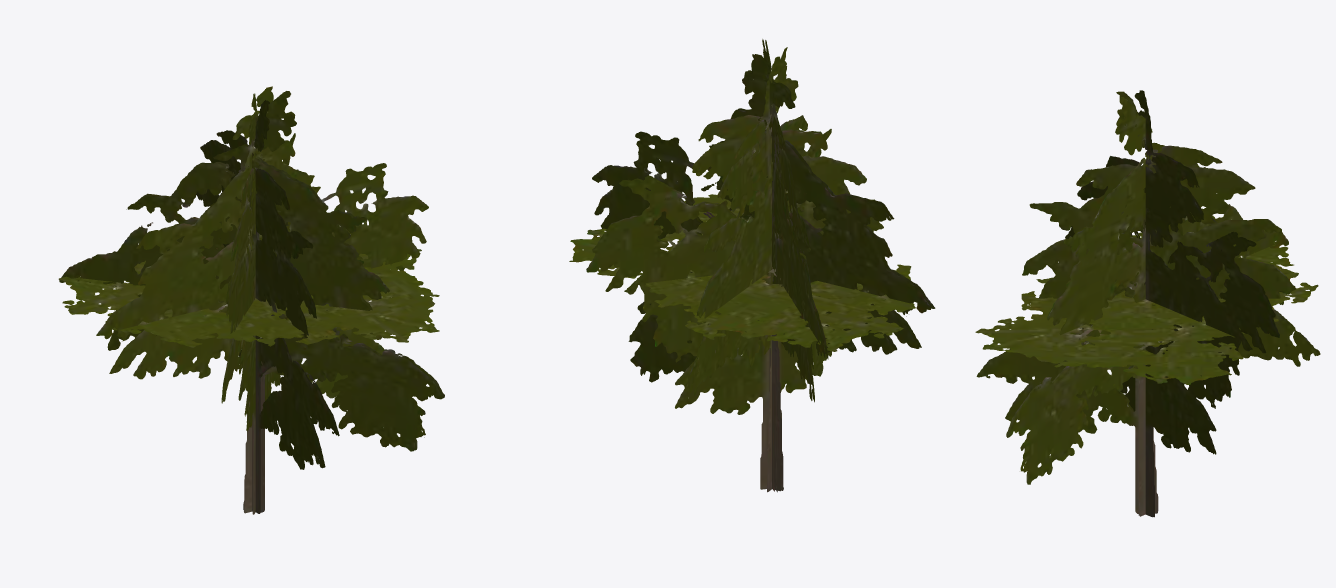
File: maple_m3_lod.glb
3 renders of one model, left to right at view 1: azimuth 30°, elevation 25°; view 2: azimuth 150°, elevation 25°; view 3: azimuth 270°, elevation 25°, orthographic. The views are drawn at different scales.
Visible parts, largest first — view 1: Acer_medium_3_Billboard_LOD3_Acer_medium_3_Billboard_Mat_0; view 2: Acer_medium_3_Billboard_LOD3_Acer_medium_3_Billboard_Mat_0; view 3: Acer_medium_3_Billboard_LOD3_Acer_medium_3_Billboard_Mat_0.
Boxes of the visible parts, bbox=[...] form: Acer_medium_3_Billboard_LOD3_Acer_medium_3_Billboard_Mat_0: bbox=[58, 86, 444, 514]; Acer_medium_3_Billboard_LOD3_Acer_medium_3_Billboard_Mat_0: bbox=[569, 39, 935, 492]; Acer_medium_3_Billboard_LOD3_Acer_medium_3_Billboard_Mat_0: bbox=[975, 90, 1320, 517].
Bounding box in the file's own units: 7.09 × 8.5 × 6.3.
Materials: 1 (1 with a texture image).
